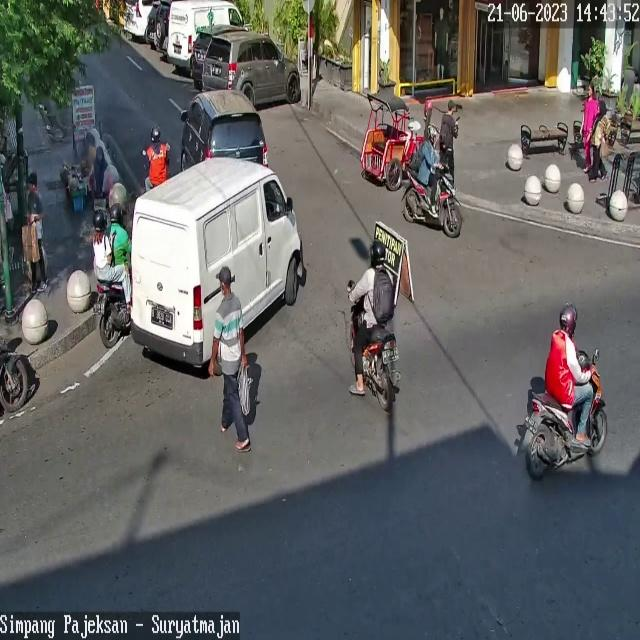bus: (519, 347, 609, 480), (349, 296, 401, 410), (402, 160, 463, 238), (97, 276, 129, 348)
motorcycle: (131, 157, 307, 367), (201, 31, 299, 107), (184, 90, 270, 169), (166, 0, 244, 66), (123, 0, 153, 38), (191, 27, 211, 83)
